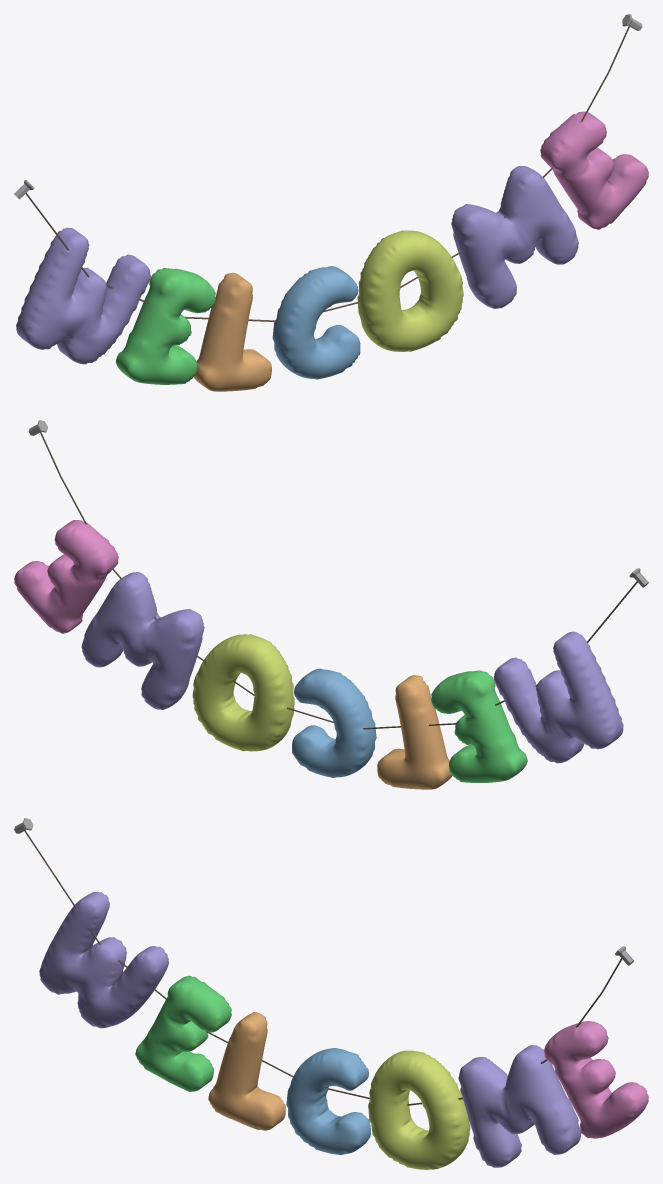
Rendered from Lvl3_balloons_welcome.fbx.
3 views of the same model, one above another, from view 1: azimuth 30°, elevation 25°; view 2: azimuth 150°, elevation 25°; view 3: azimuth 330°, elevation 25° (orthographic). The views are drawn at different scales.
Parts seen in each view (by area): view 1: Text, string; view 2: Text, string; view 3: Text, string.
Part boxes in pixels (x1,y1,x2,y2): Text: (16, 111, 648, 391); string: (14, 14, 642, 321); Text: (14, 520, 623, 789); string: (28, 420, 648, 729); Text: (39, 891, 648, 1169); string: (14, 818, 634, 1105).
Size of the model in its own units: 11.44 by 4.94 by 0.8507.
